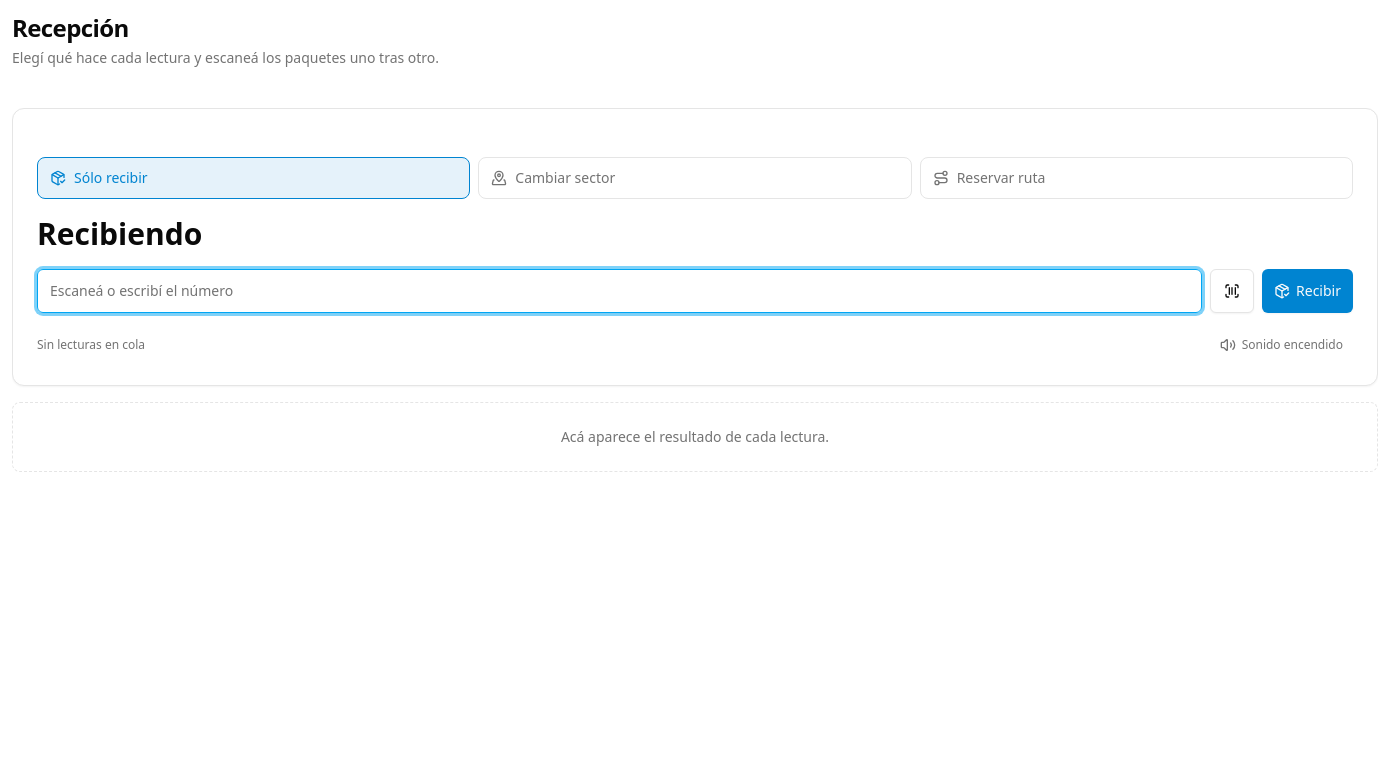
Recepción — la cola de lecturas › sin respuesta del servidor: error con Reintentar, y el reintento manda el mismo clientUuid
Type "000000009-3" into the field named "Número, remito o código de barras del envío" at (620, 290), box [37, 268, 1202, 312]
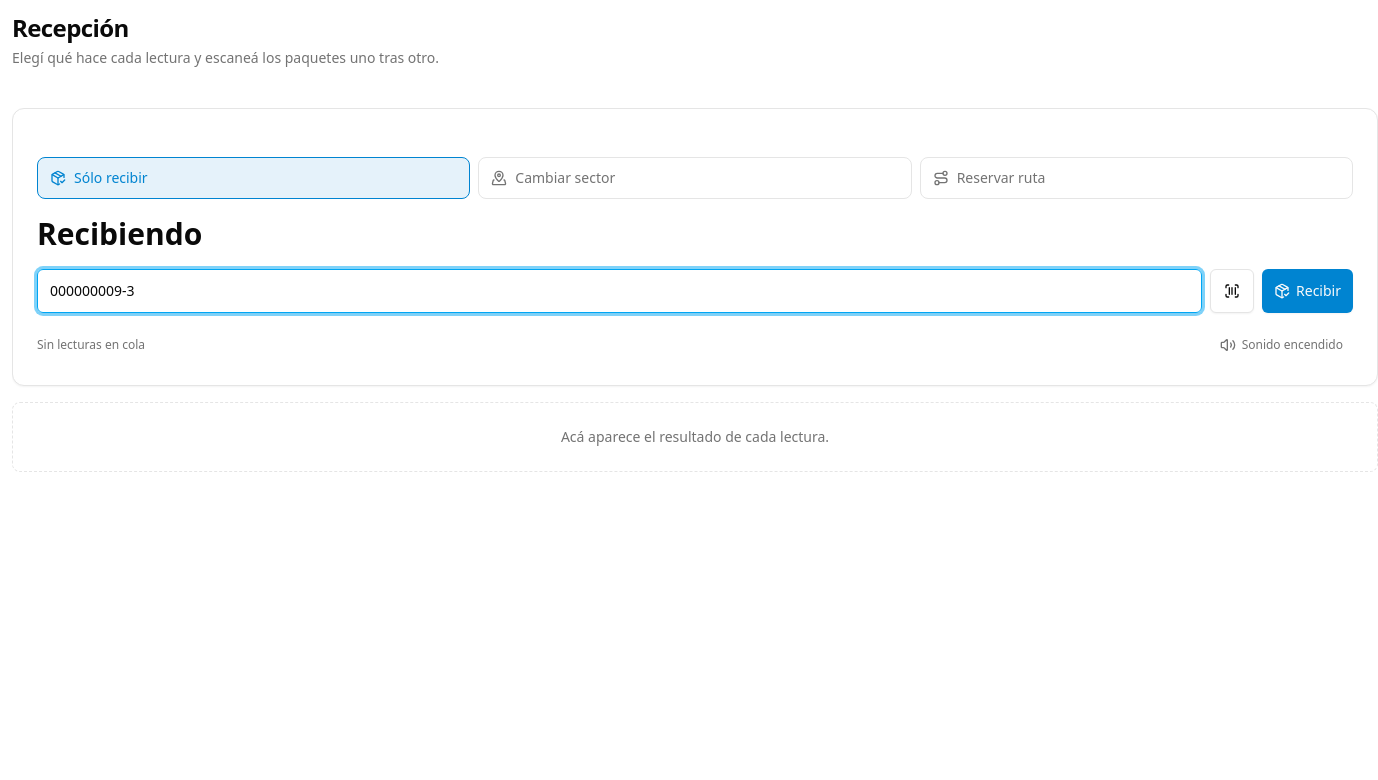
Press Enter in the field named "Número, remito o código de barras del envío", box [37, 268, 1202, 312]
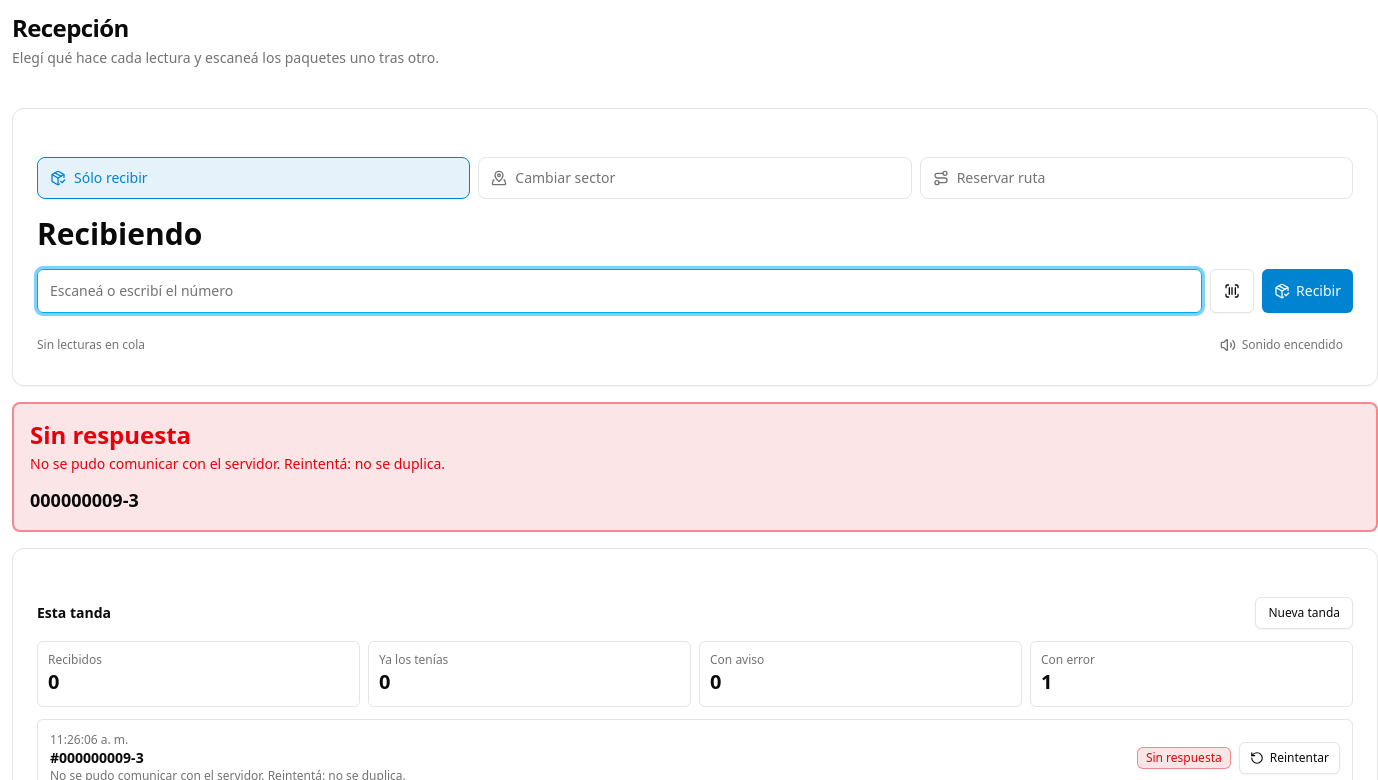
Now the message shows "Sin respuesta", box [30, 418, 191, 450]
Click the button "Reintentar" at (1289, 758), box [1239, 742, 1340, 774]
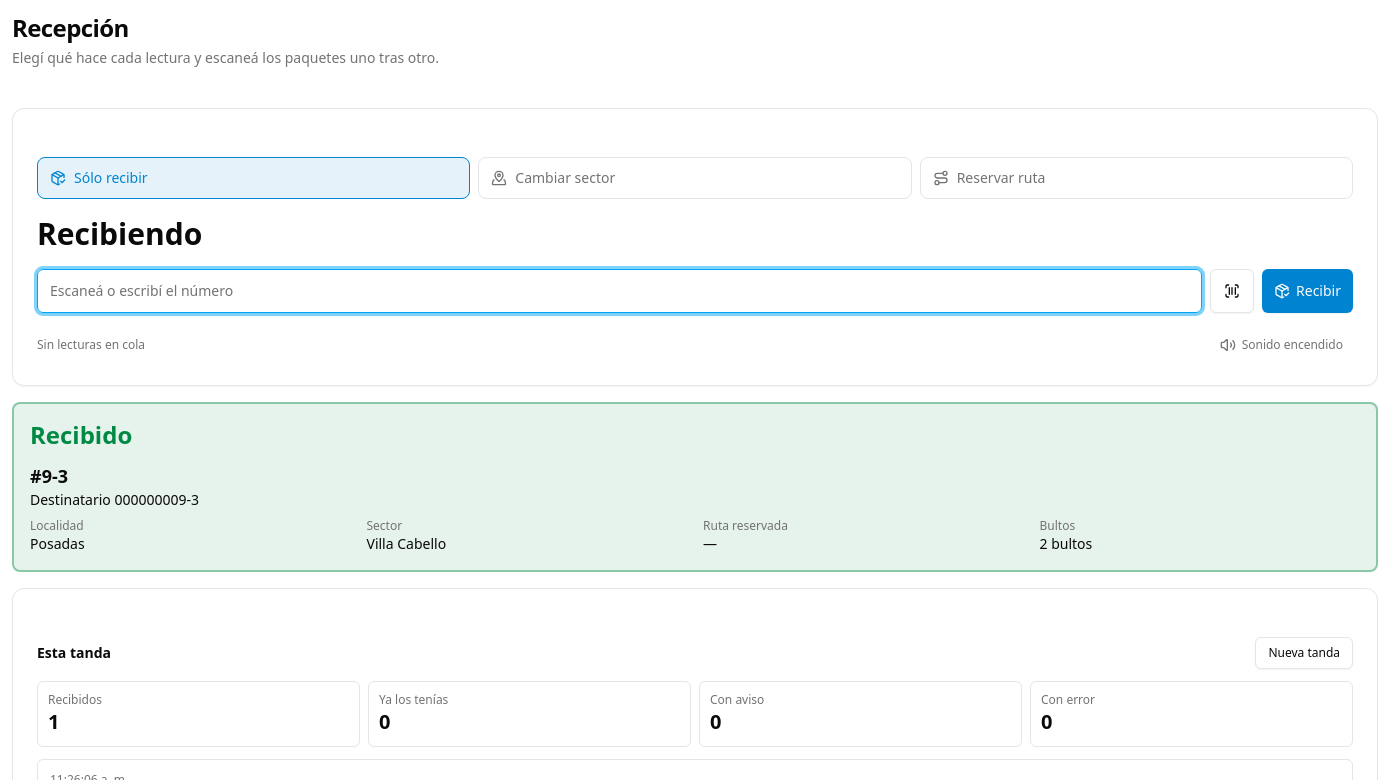
Now the message shows "Recibido", box [30, 418, 132, 450]
